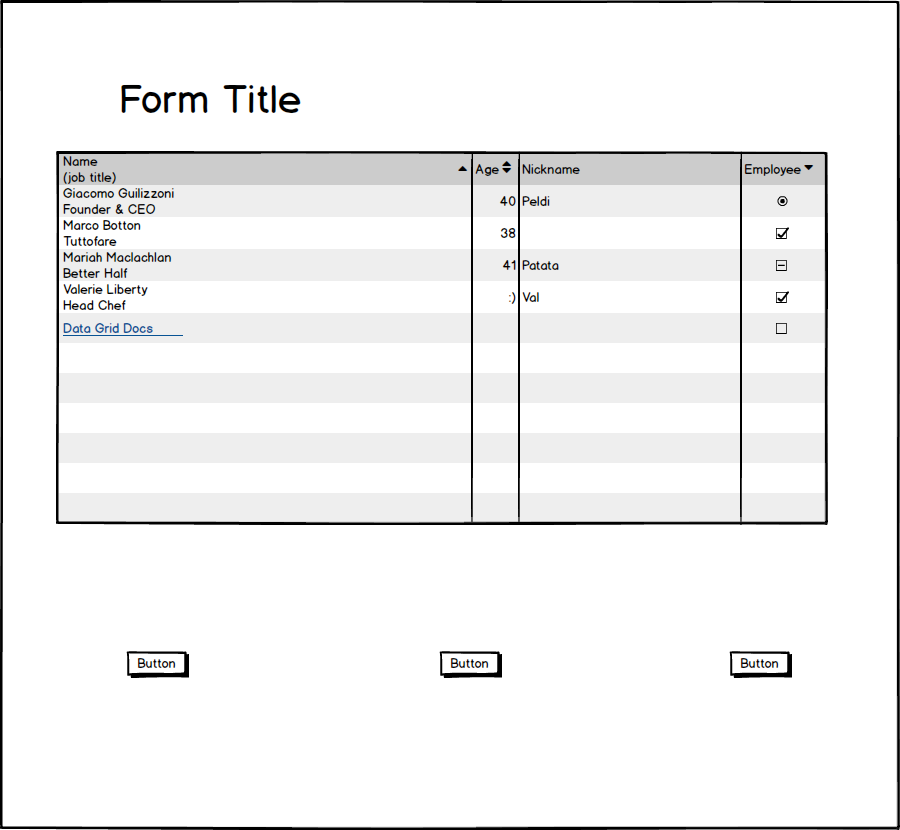button: (727, 643, 798, 683), (432, 645, 507, 682), (123, 647, 196, 685)
h1: (112, 73, 312, 121)
table: (49, 145, 835, 531)
